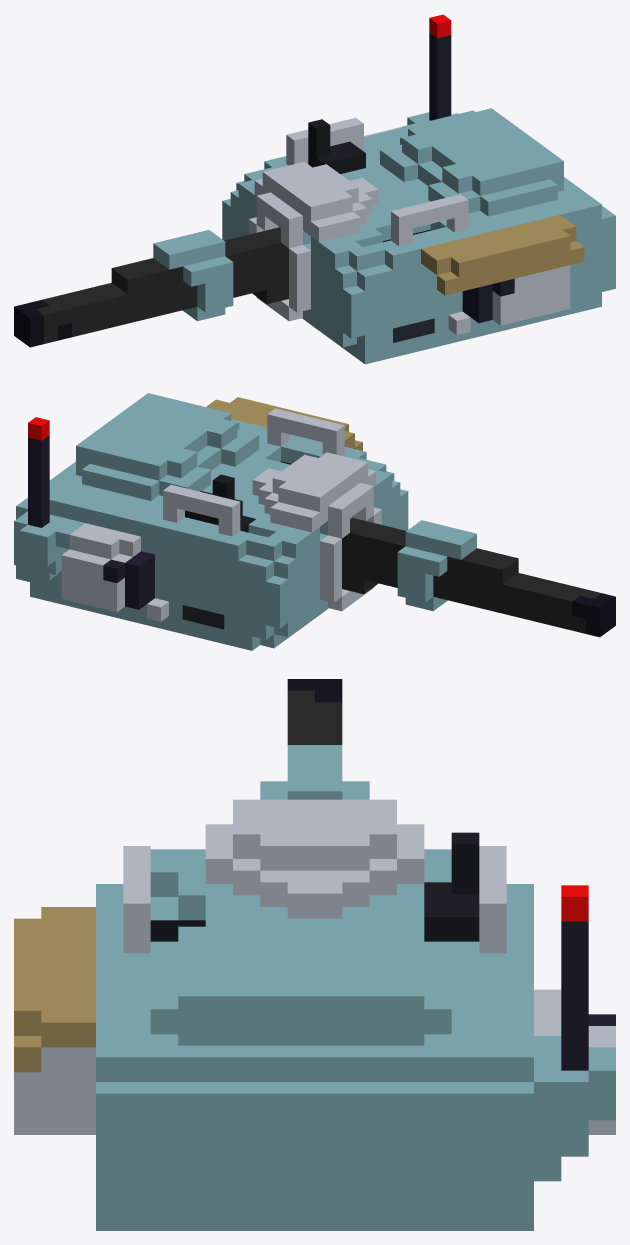
Rendered from Tank_Up.obj.
The picture shows the model from 3 angles, top to bottom: view 1: azimuth 30°, elevation 25°; view 2: azimuth 150°, elevation 25°; view 3: azimuth 270°, elevation 25°; orthographic projection. The views are drawn at different scales.
Bounding box in the file's own units: 3.8 × 1.3 × 2.2.
1 material, 1 textured.
